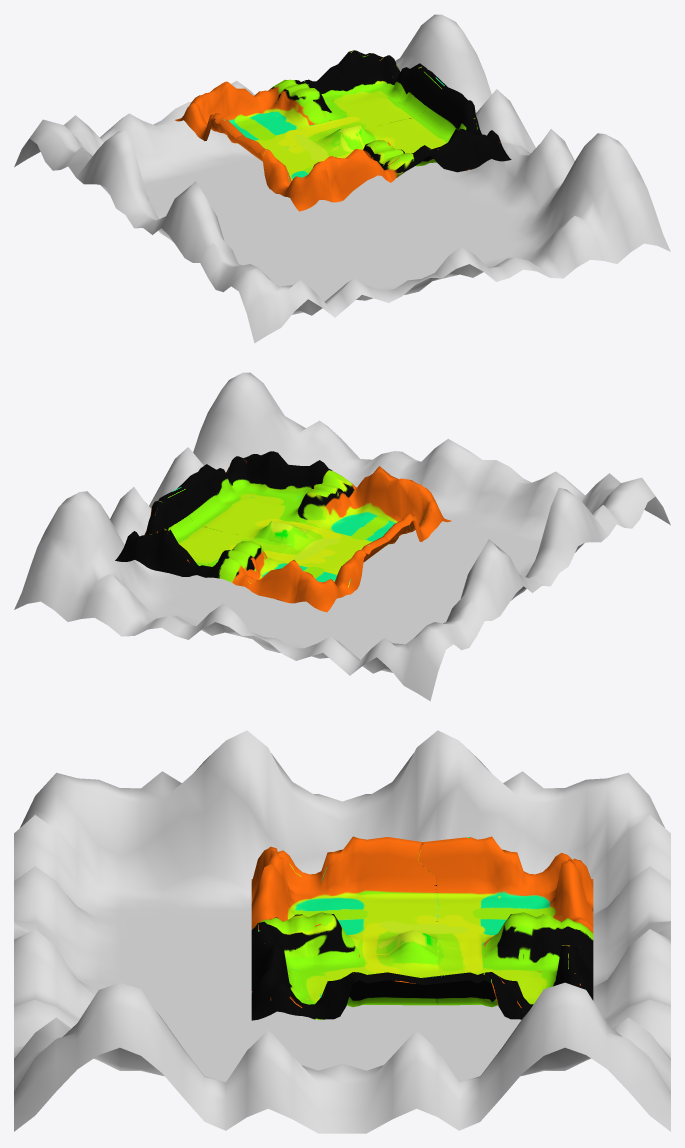
The model's file is lake_map.glb.
The picture shows the model from 3 angles, top to bottom: view 1: azimuth 30°, elevation 25°; view 2: azimuth 150°, elevation 25°; view 3: azimuth 270°, elevation 25°; orthographic projection. The views are drawn at different scales.
Visible parts, largest first — view 1: bgMesh, terrain; view 2: bgMesh, terrain; view 3: bgMesh, terrain.
Part boxes in pixels (bbox=[...]): bgMesh: bbox=[14, 14, 670, 343]; terrain: bbox=[175, 50, 511, 211]; bgMesh: bbox=[14, 372, 670, 701]; terrain: bbox=[115, 451, 451, 612]; bgMesh: bbox=[14, 730, 670, 1133]; terrain: bbox=[251, 836, 593, 1020].
Size of the model in its own units: 154 by 37.12 by 154.
2 materials, 1 textured.
